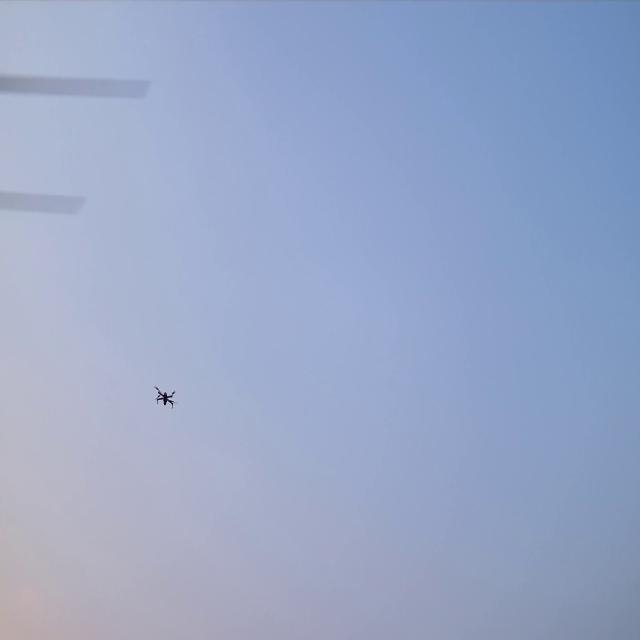UAV: (153, 381, 179, 410)
